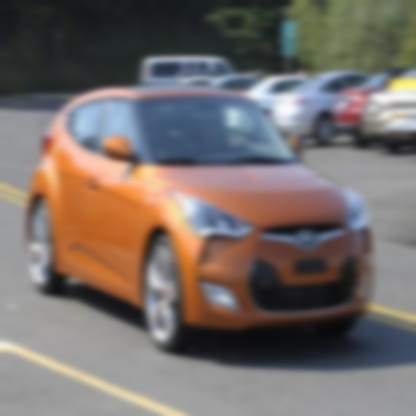Vehicle: (23, 82, 376, 356)
